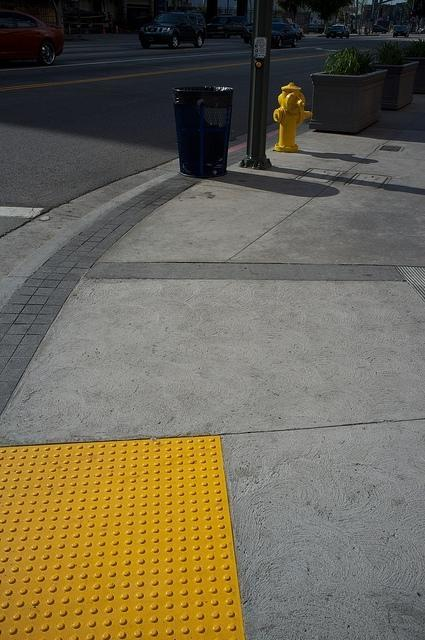car: (0, 10, 64, 68), (140, 10, 208, 50), (207, 12, 244, 40), (269, 22, 300, 49), (326, 24, 350, 40), (393, 25, 410, 38), (300, 23, 322, 32), (372, 25, 388, 34)
